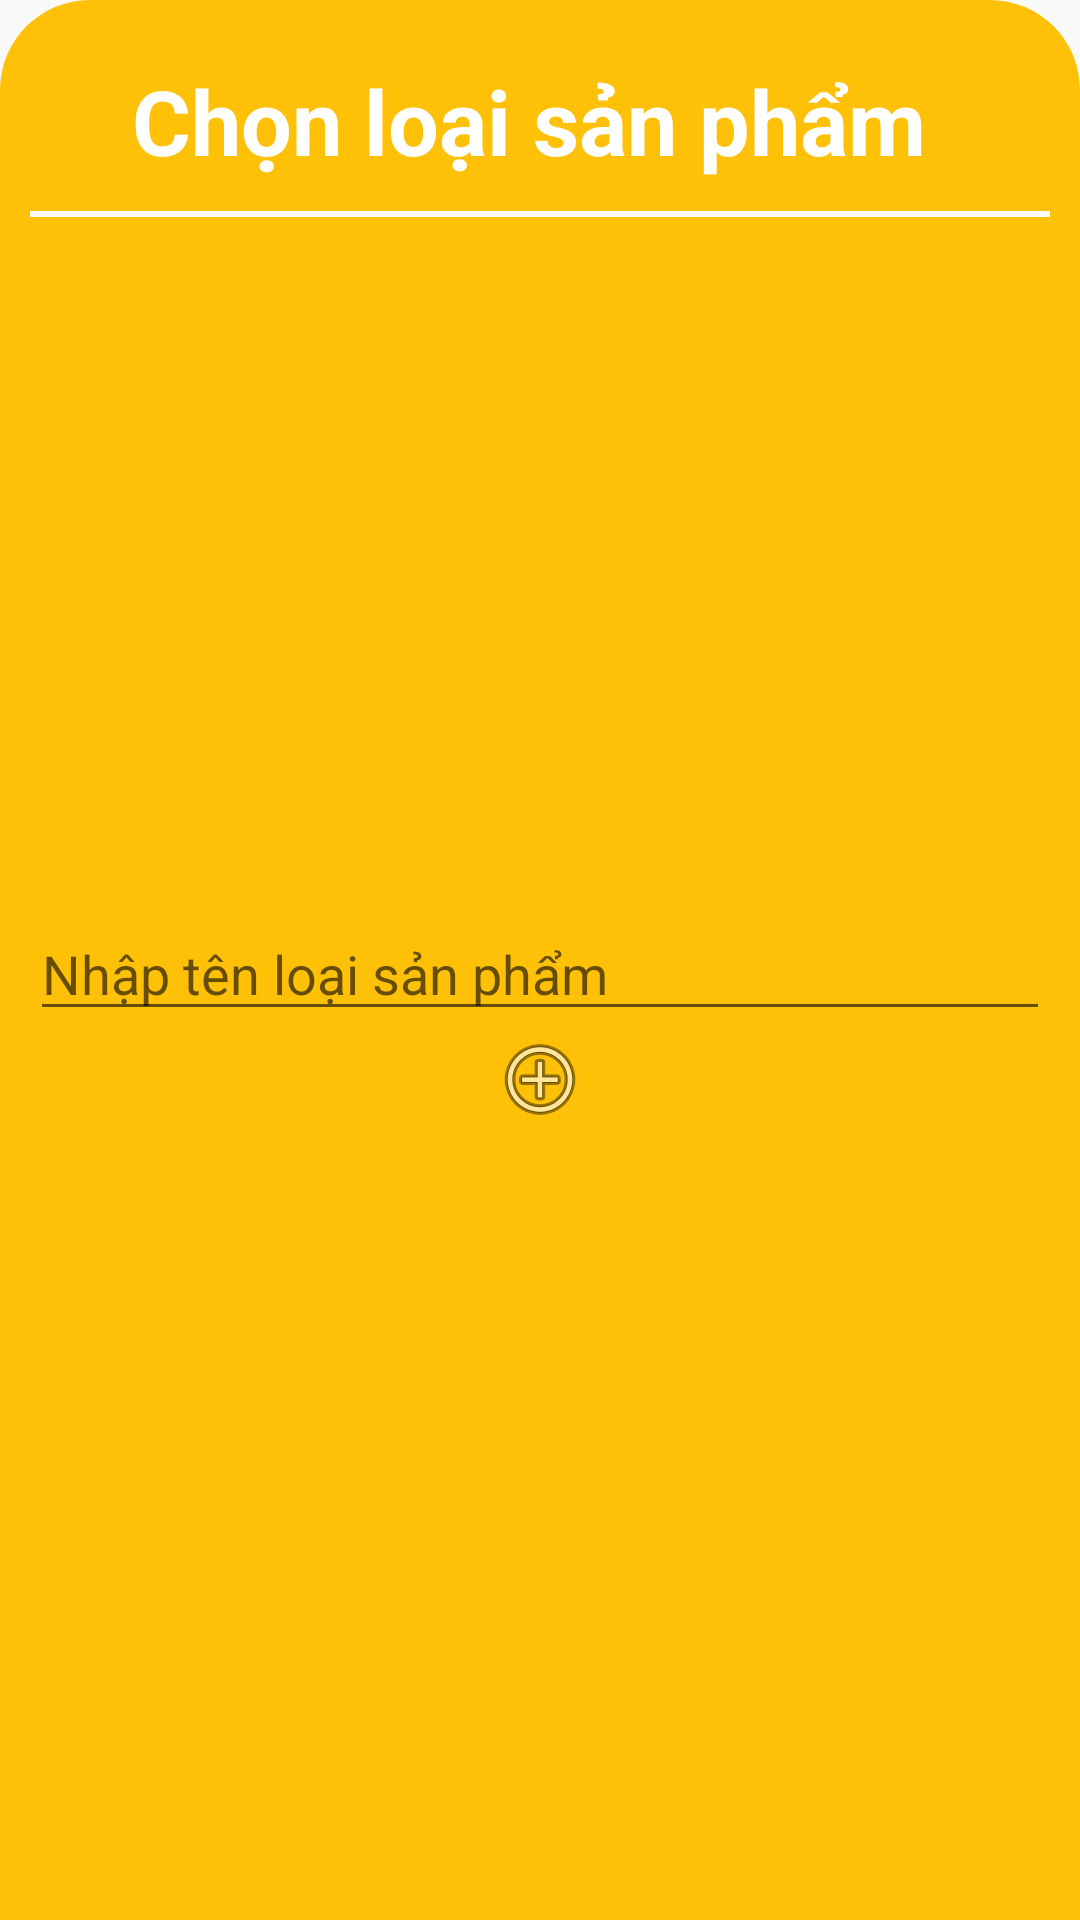

Icons on this 1080×1920 Android screen, each with the point to tap as [x,y]:
add: [540,1079]
